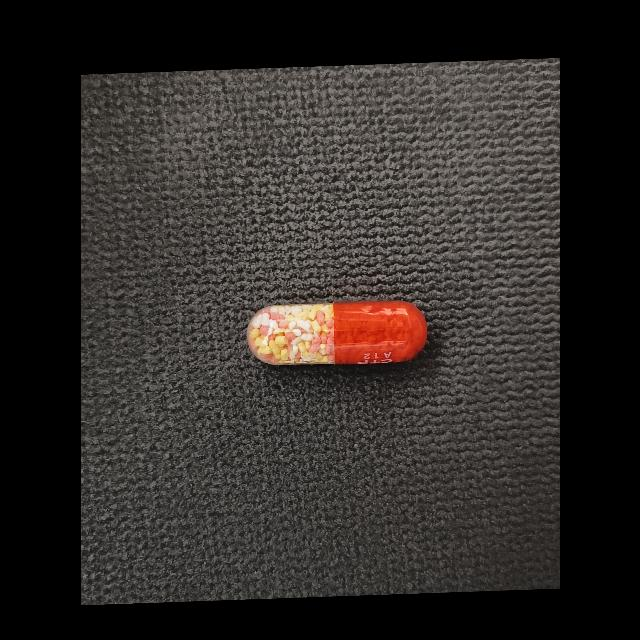Intact Capsule: (246, 300, 427, 365)
